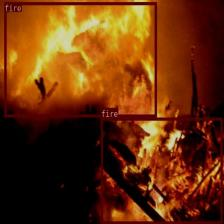fire: (4, 2, 156, 117), (101, 117, 222, 223)
